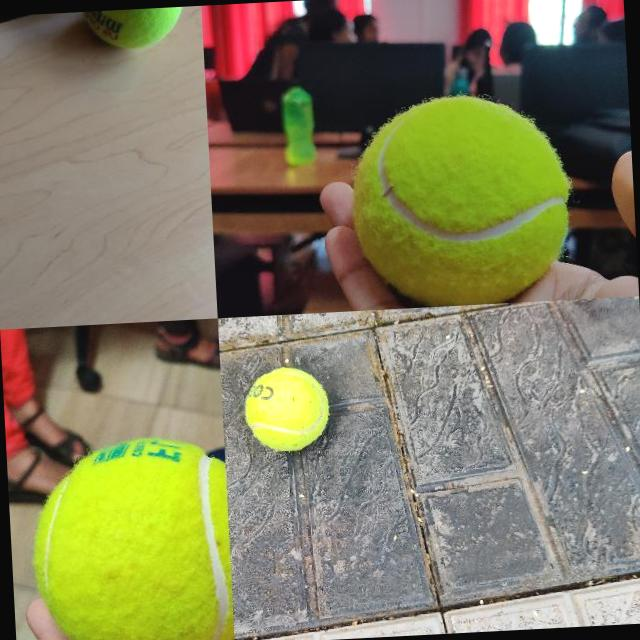Tennis Ball: (348, 91, 576, 310), (29, 436, 235, 640), (242, 364, 332, 454), (80, 7, 186, 52)
